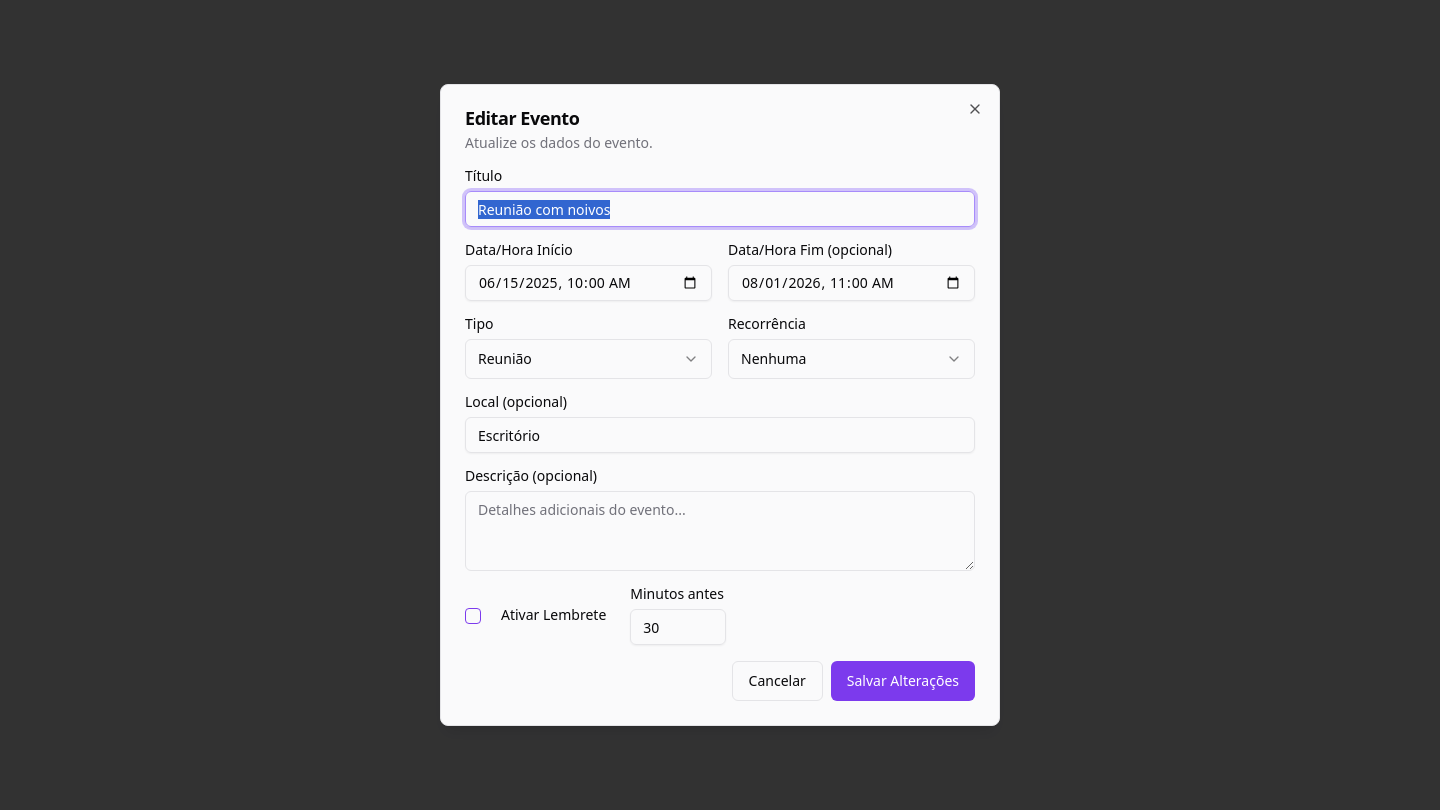
Scenario: EditEventDialog › Non-payment events (editable) › clears optional dates and restores empty reminder minutes
The image size is (1440, 810).
Clear the field labelled "Data/Hora Início" at [588, 283], box top-left (465, 265), bottom-right (712, 301)
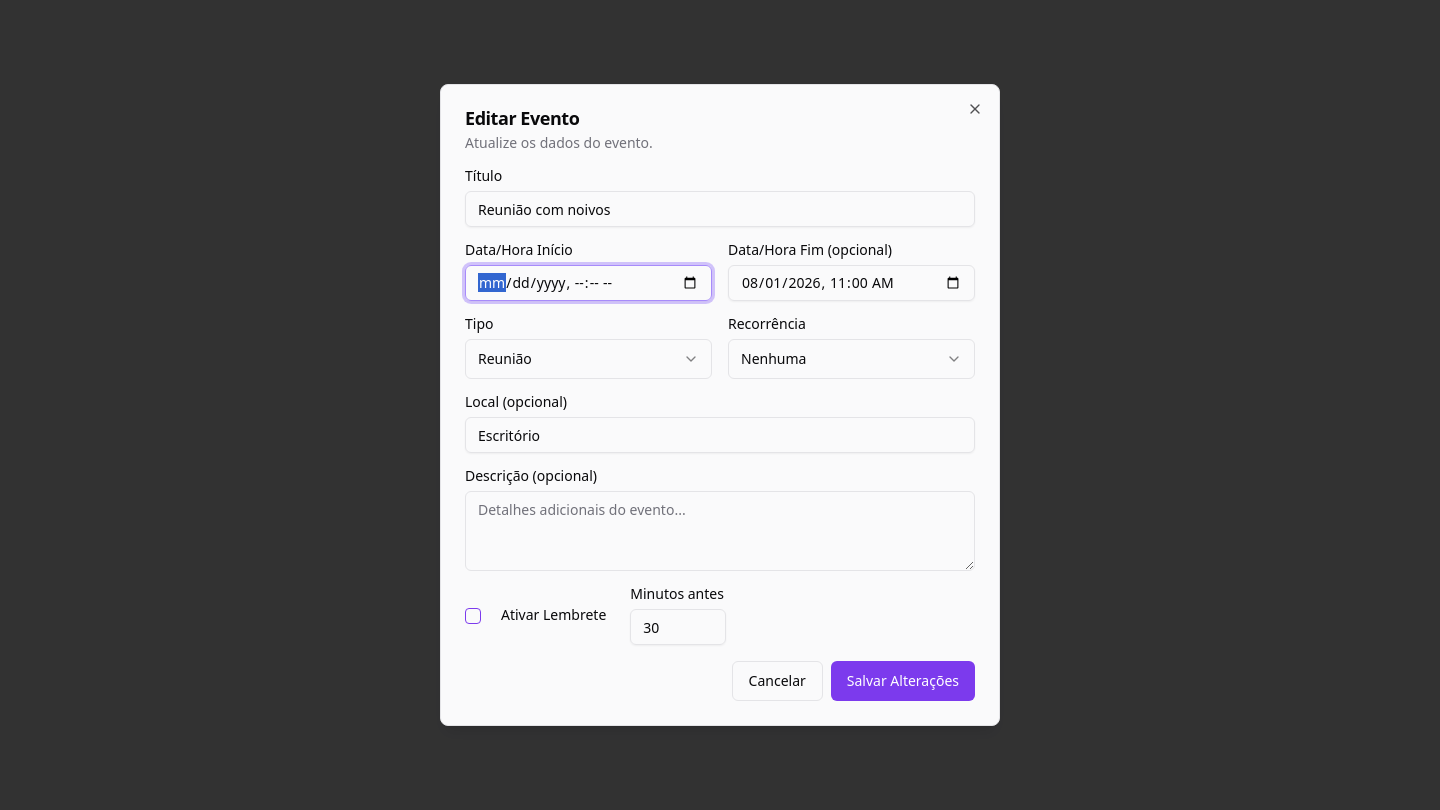
Clear the field labelled "Data/Hora Fim (opcional)" at [852, 283], box top-left (728, 265), bottom-right (975, 301)
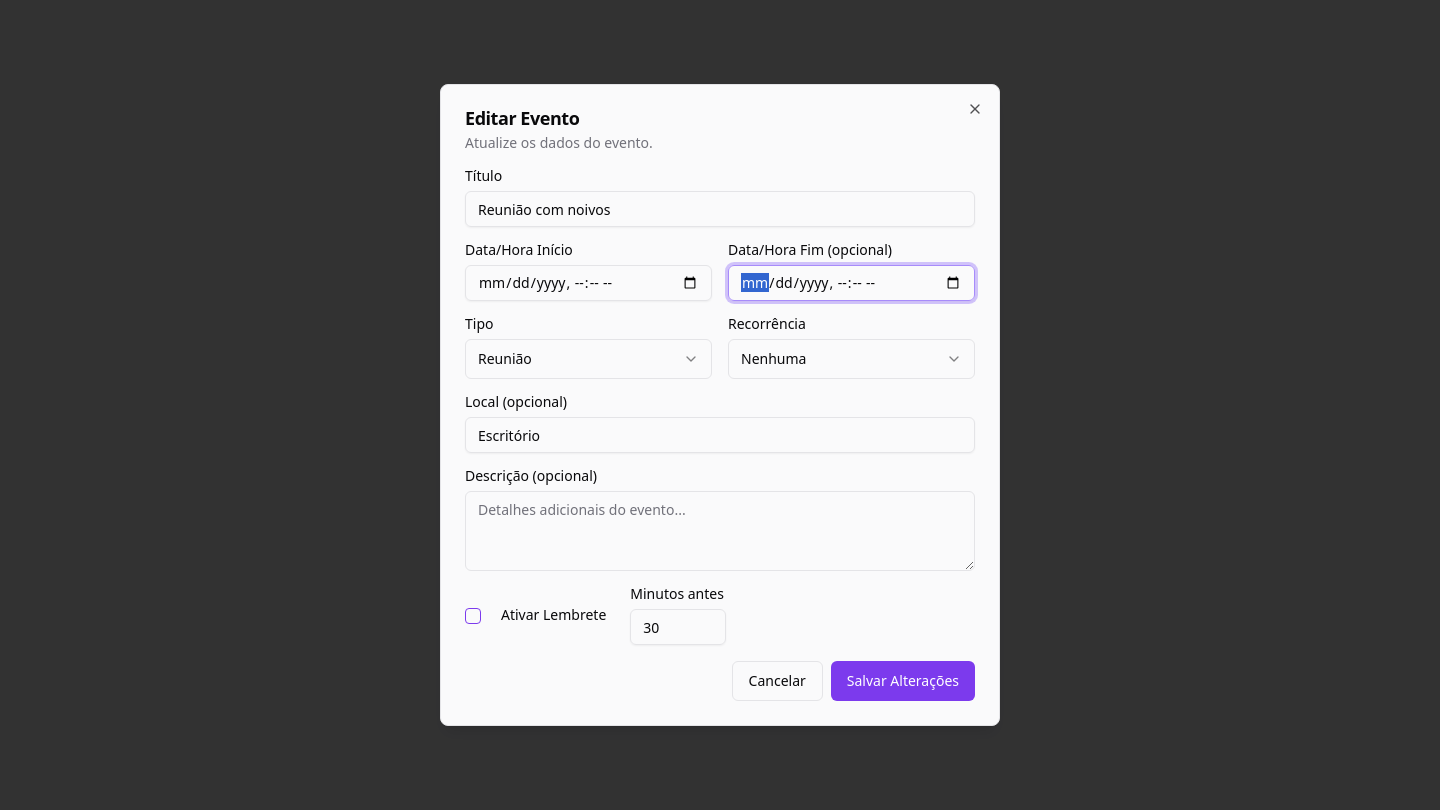
Clear the number field labelled "Minutos antes" at [678, 627], box top-left (630, 609), bottom-right (726, 645)
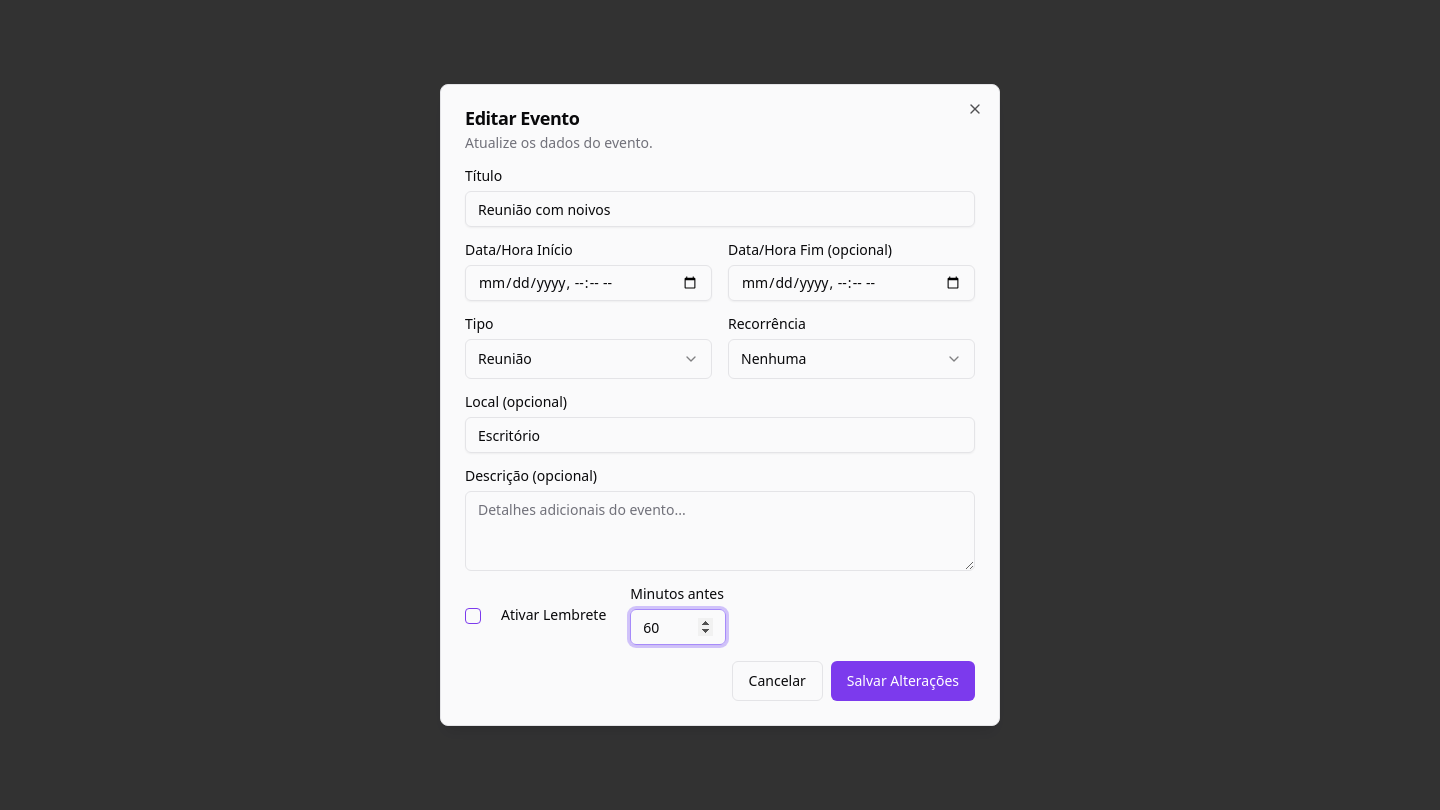
expect the number field labelled "Minutos antes" holds "60": met, box top-left (630, 609), bottom-right (726, 645)
